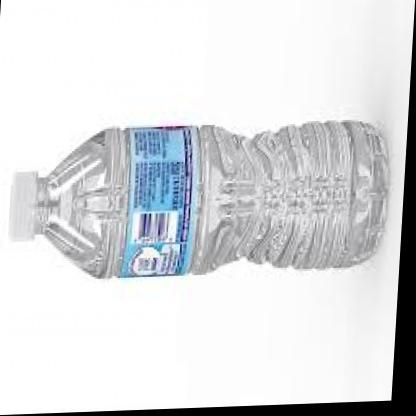trash: (46, 121, 386, 276)
